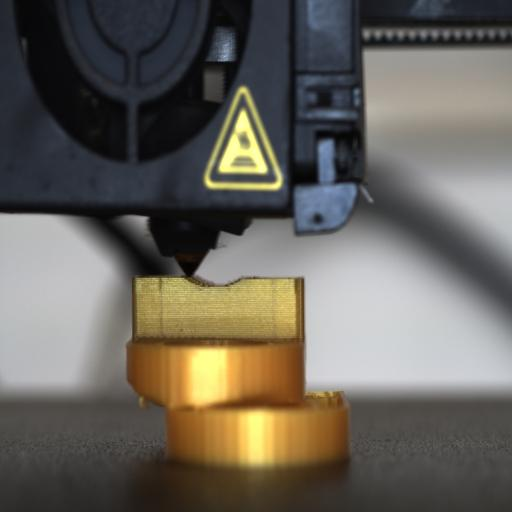layer_shift: (125, 378, 351, 418)
